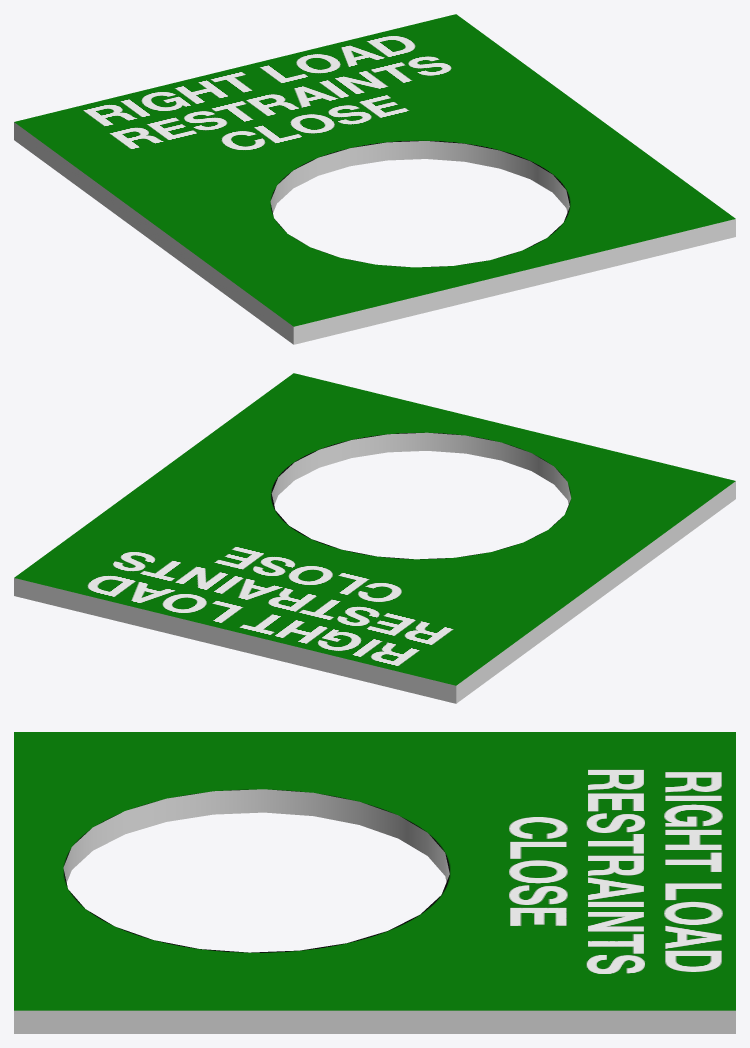
File: rightloadrestraintsclose.dae
The picture shows the model from 3 angles, top to bottom: view 1: azimuth 30°, elevation 25°; view 2: azimuth 150°, elevation 25°; view 3: azimuth 270°, elevation 25°; orthographic projection. The views are drawn at different scales.
Visible parts, largest first — view 1: SketchUp (×3); view 2: SketchUp (×3); view 3: SketchUp (×3).
Boxes of the visible parts, left/top/right/bottom form: SketchUp (×3): left=14, top=14, right=735, bottom=344; SketchUp (×3): left=14, top=373, right=735, bottom=703; SketchUp (×3): left=14, top=732, right=735, bottom=1033.
Size of the model in its own units: 2.01 by 2.2 by 0.0787.
Materials: 2 (1 with a texture image).
